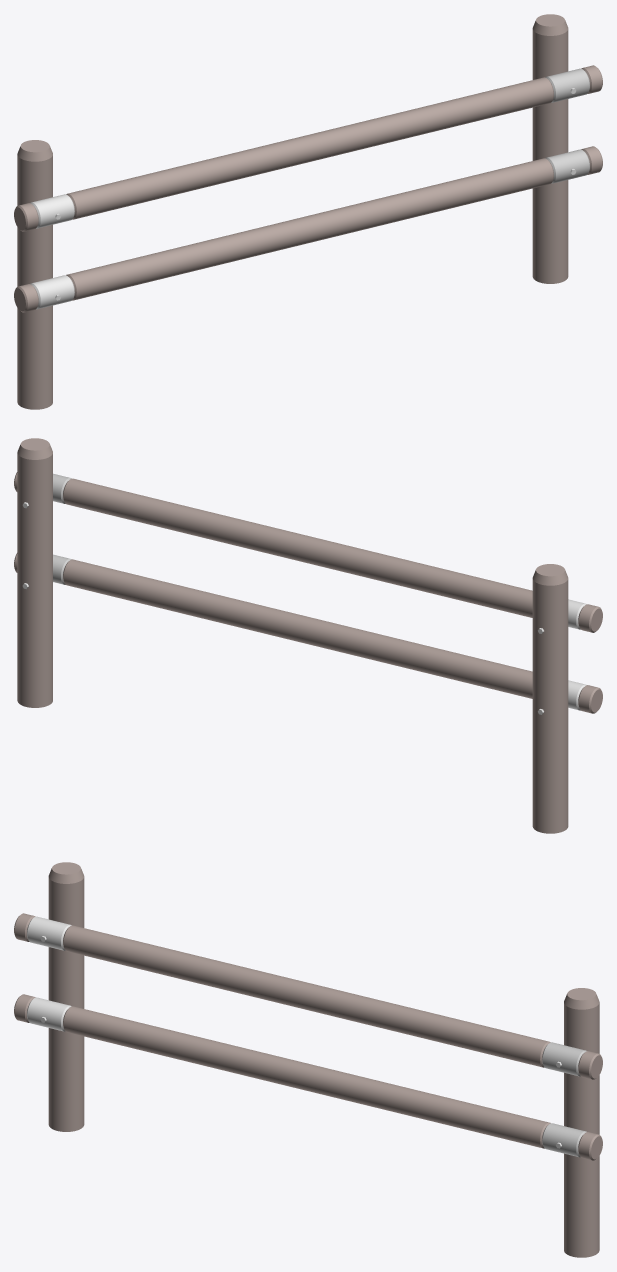
File: 1039_guard_fence_1.glb
The picture shows the model from 3 angles, top to bottom: view 1: azimuth 30°, elevation 25°; view 2: azimuth 150°, elevation 25°; view 3: azimuth 330°, elevation 25°; orthographic projection.
Visible parts, largest first — view 1: Body; view 2: Body; view 3: Body.
Boxes of the visible parts, x1=… form: Body: x1=14, y1=14, x2=602, y2=409; Body: x1=14, y1=438, x2=602, y2=833; Body: x1=14, y1=862, x2=602, y2=1257.
Size of the model in its own units: 2.24 by 0.95 by 0.2256.
